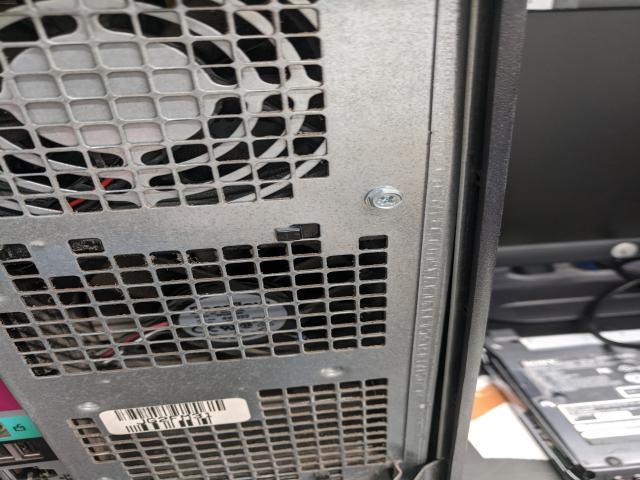CRS: (366, 185, 406, 212)
